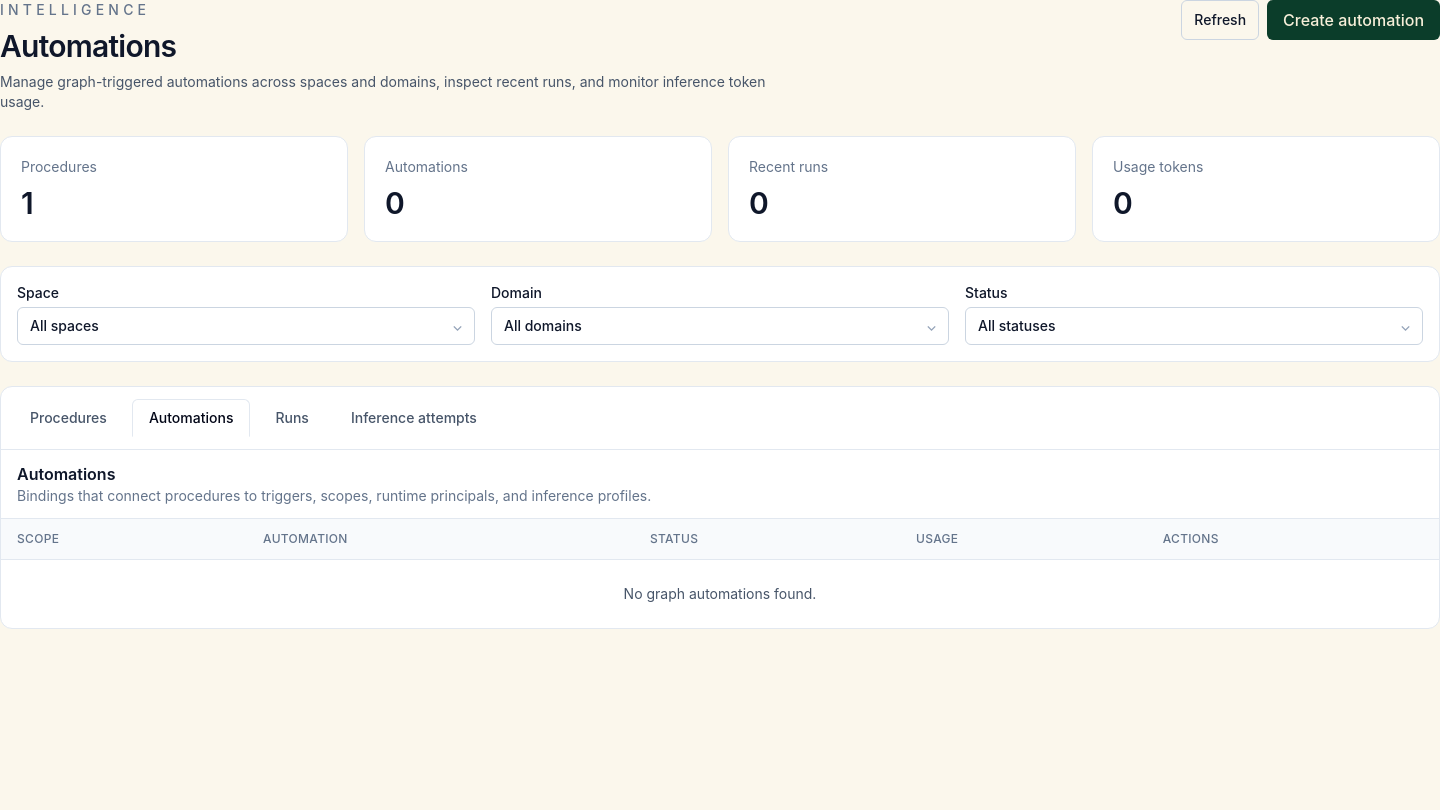
Test case: does not report success for incomplete procedure barriers
This screenshot has width=1440, height=810.
Click the tab "Procedures" at (68, 418), box 13,399 -> 124,437
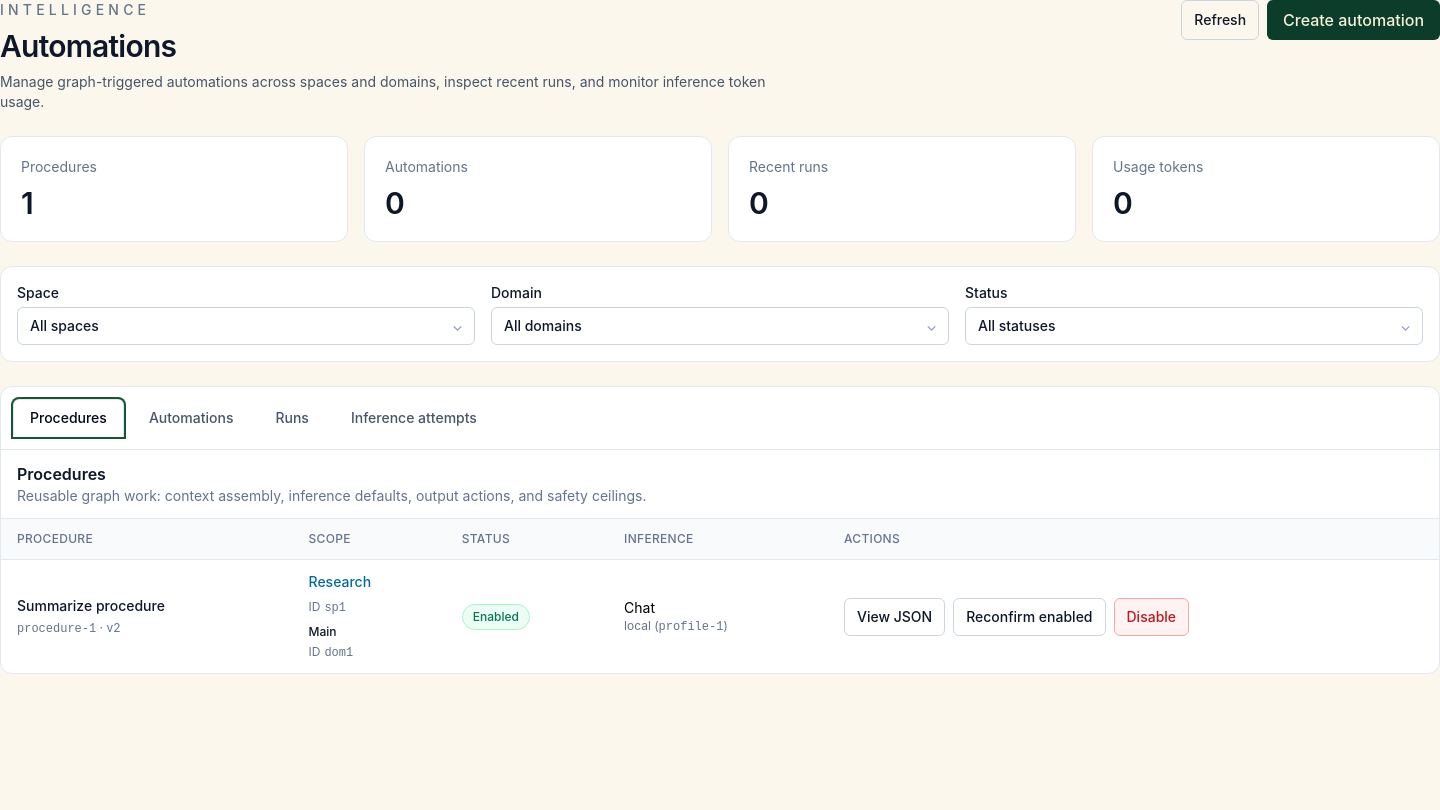
Click the button "Disable" at (1151, 616), box 1114,598 -> 1189,636
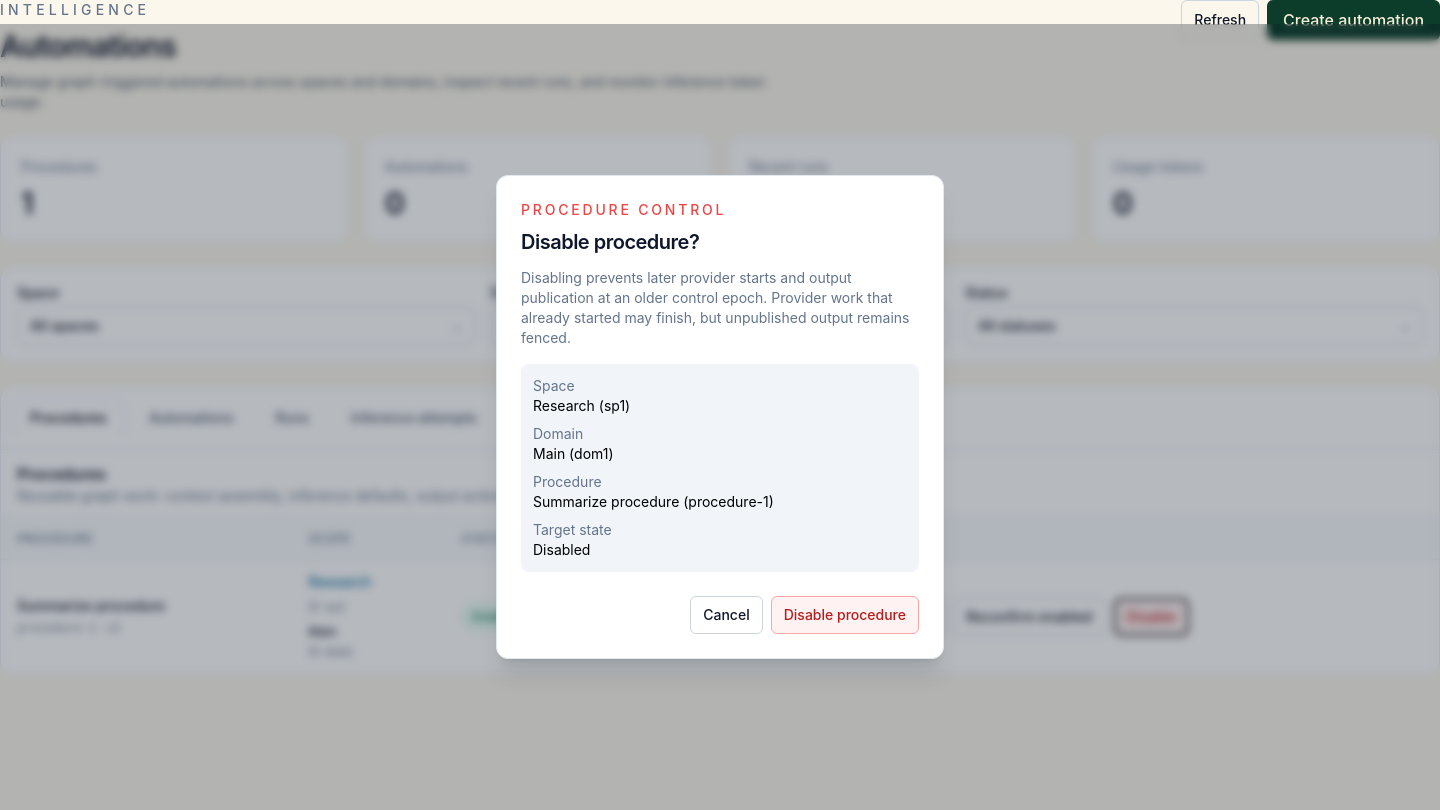
Click the button "Disable procedure" at (845, 615), box 771,596 -> 919,634
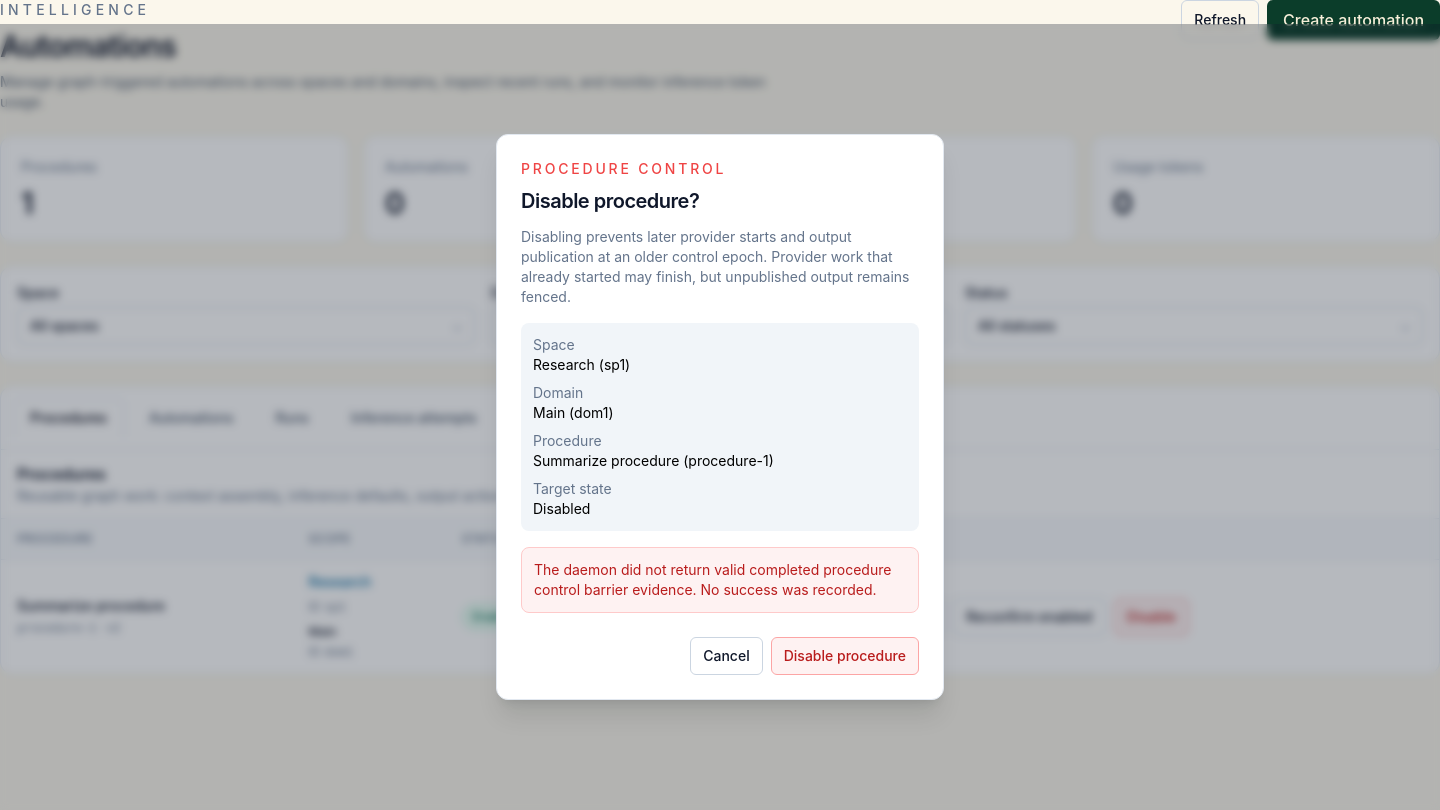
Result: the text "did not return valid completed procedure control barrier evidence" is shown at 534,561 -> 891,598
